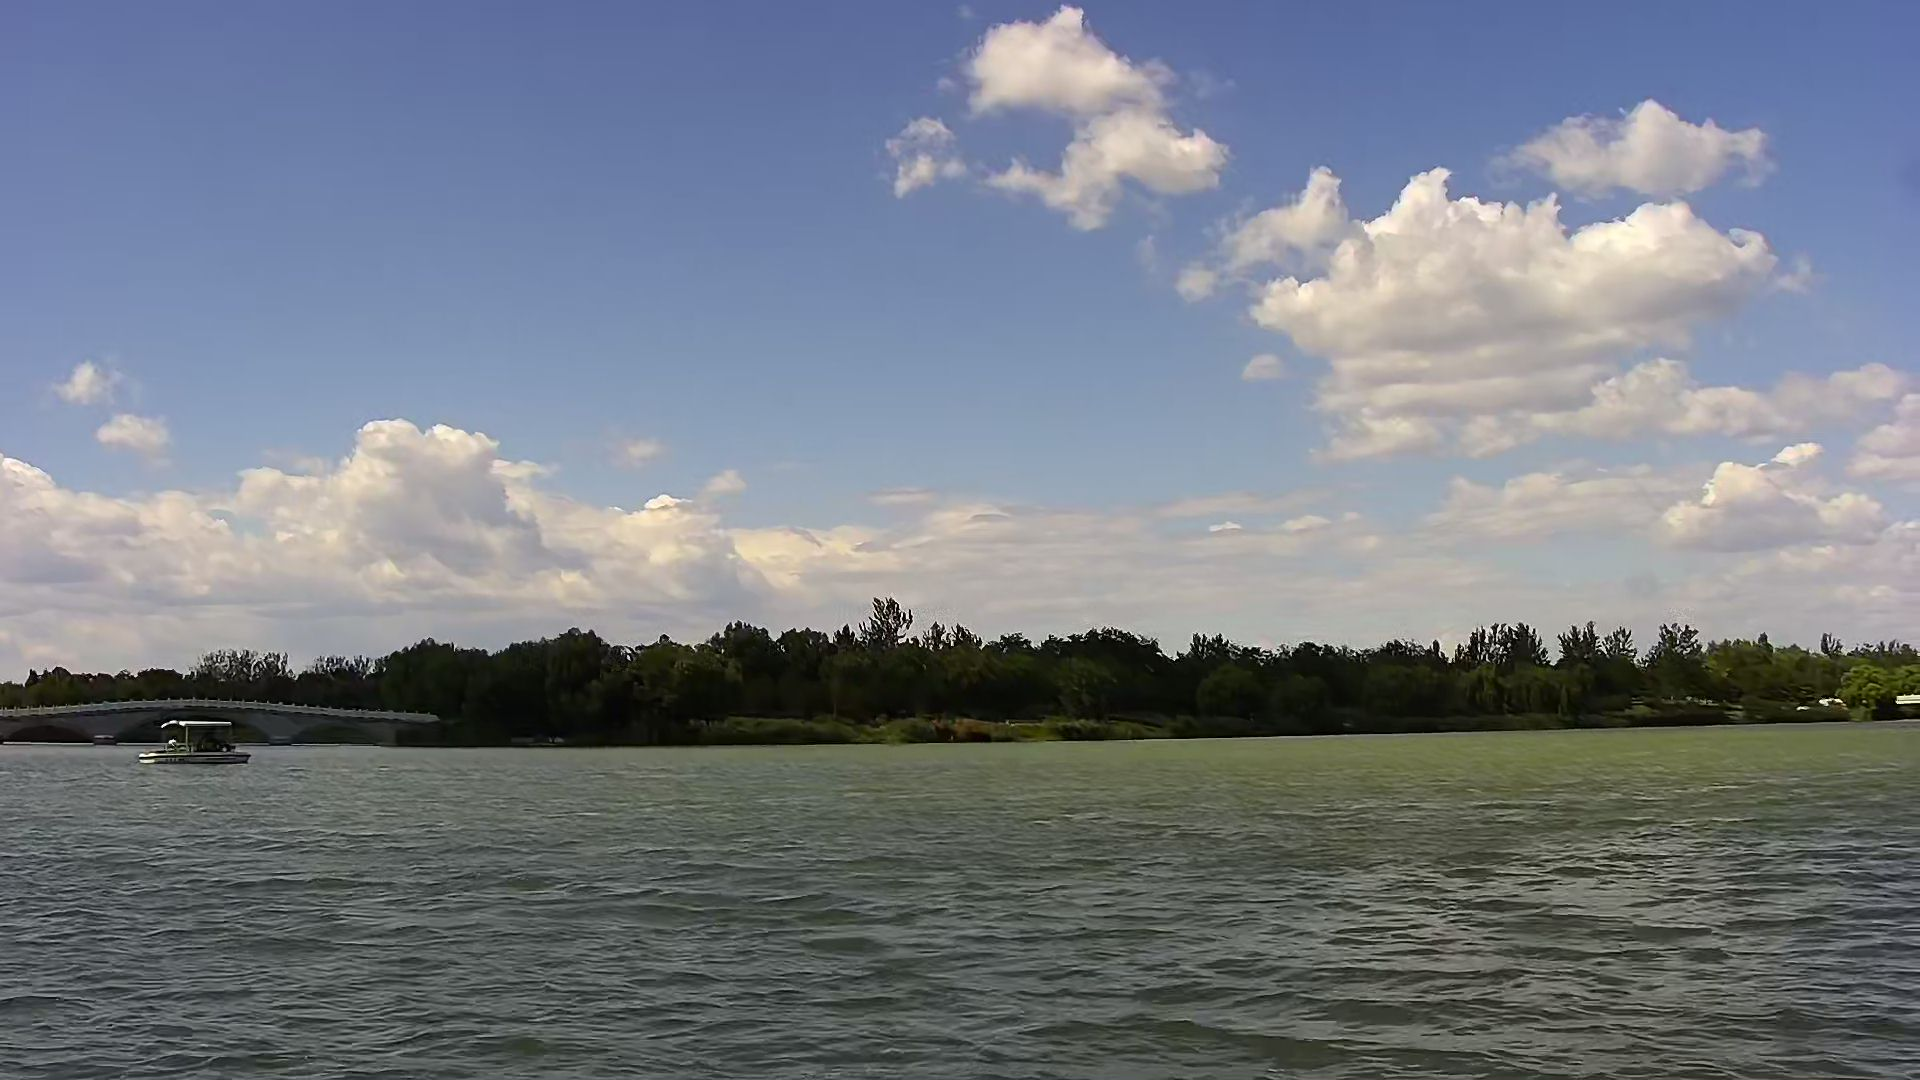boat: (136, 712, 255, 766)
bridge: (5, 694, 450, 754)
